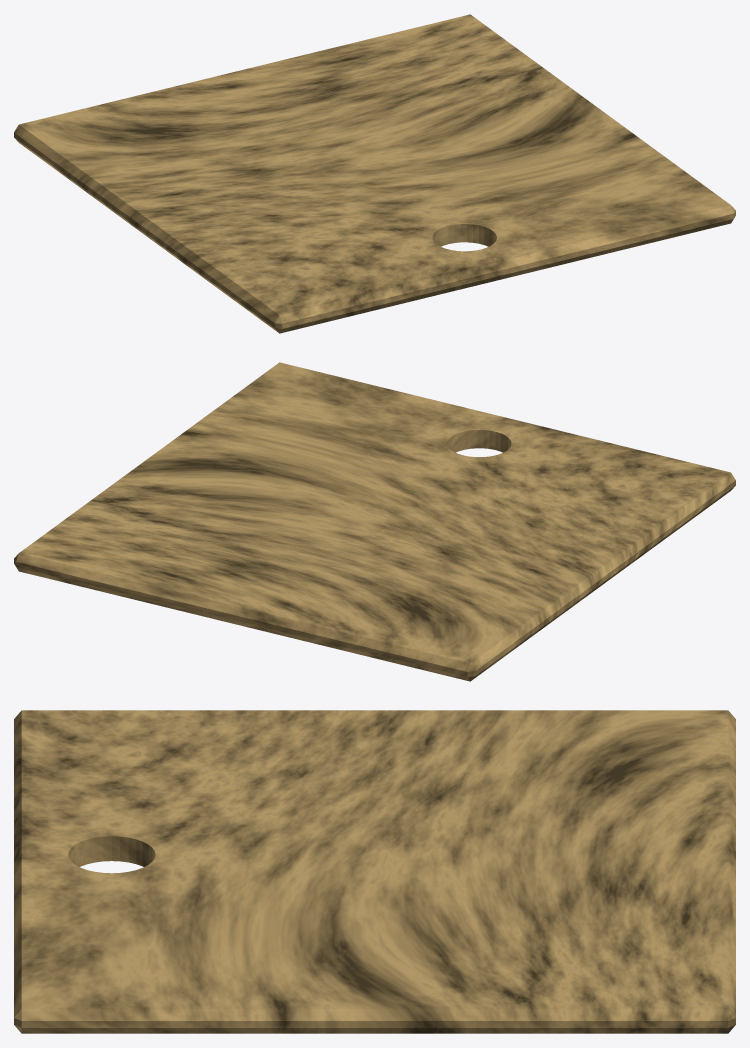
Rendered from tagliere.obj.
3 views of the same model, one above another, from view 1: azimuth 30°, elevation 25°; view 2: azimuth 150°, elevation 25°; view 3: azimuth 270°, elevation 25° (orthographic). The views are drawn at different scales.
Visible parts, largest first — view 1: bake; view 2: bake; view 3: bake.
Part boxes in pixels (box(x1,y1,x2,y2)): bake: box(14, 14, 735, 333); bake: box(14, 362, 735, 681); bake: box(14, 710, 735, 1033).
Size of the model in its own units: 1.05 by 0.04 by 1.05.
1 material, 1 textured.
